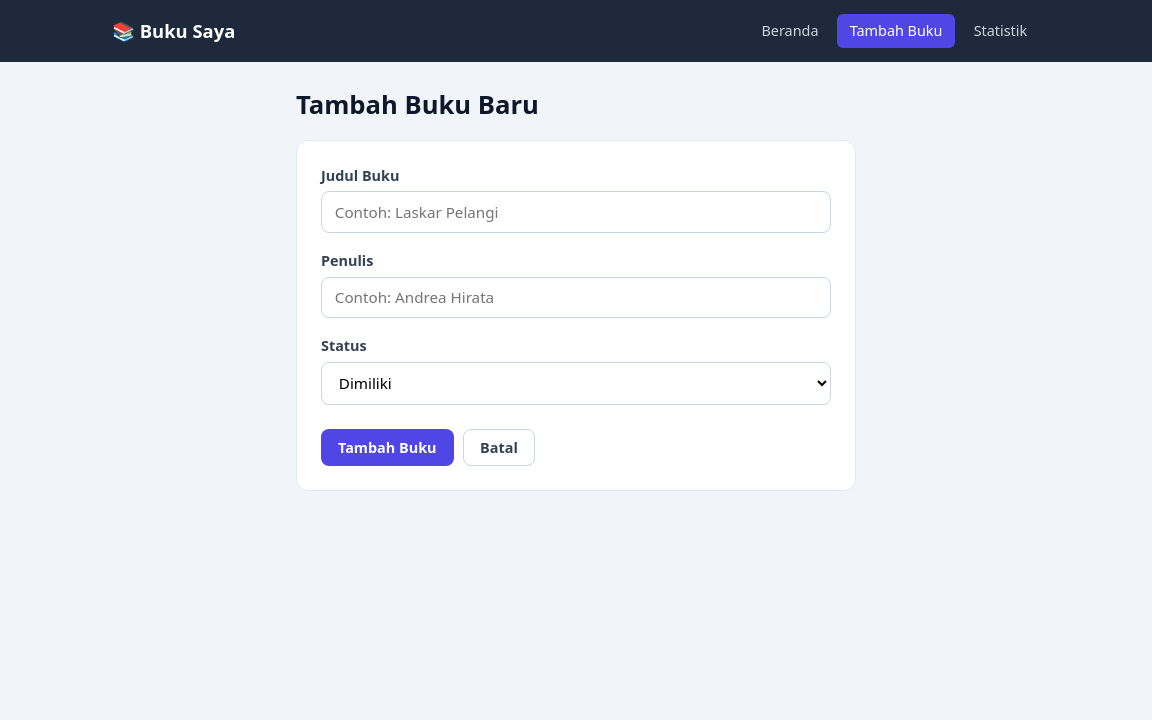
Aplikasi manajemen buku (integrasi) › menambah buku baru dan menyimpannya ke localStorage
The width and height of the screenshot is (1152, 720).
Type "Negeri 5 Menara" into the field labelled "Judul Buku" at point(576, 212), box [321,191,831,233]
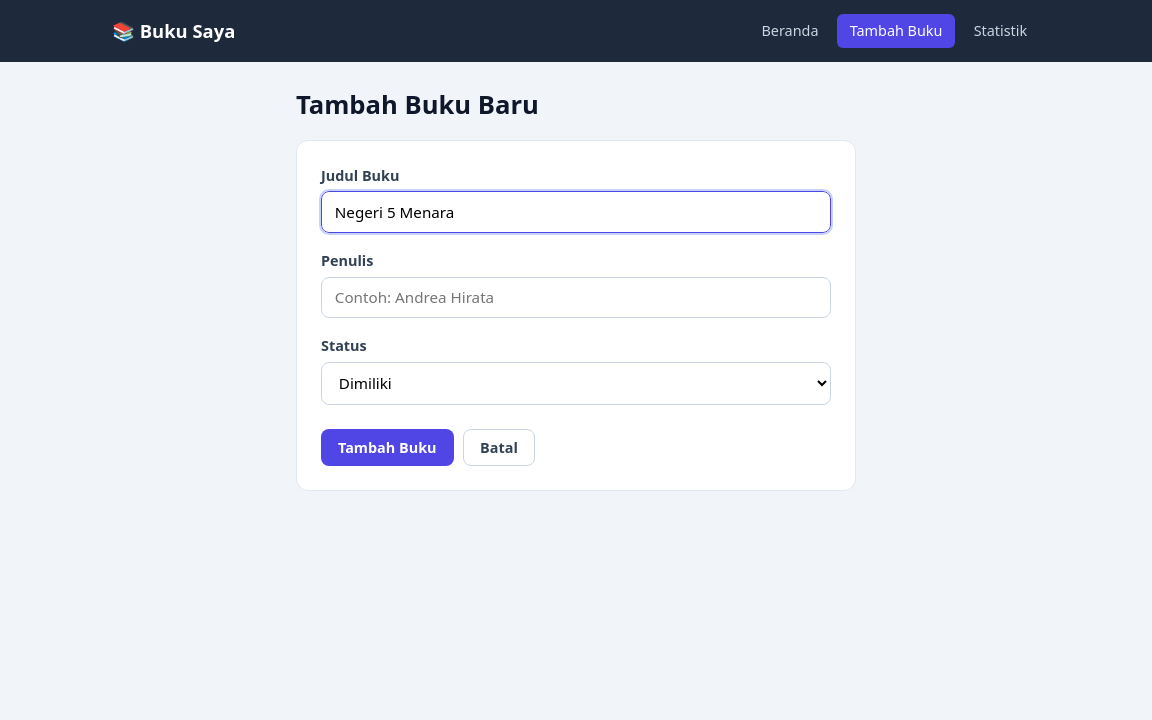
Type "A. Fuadi" into the field labelled "Penulis" at point(576, 297), box [321,277,831,318]
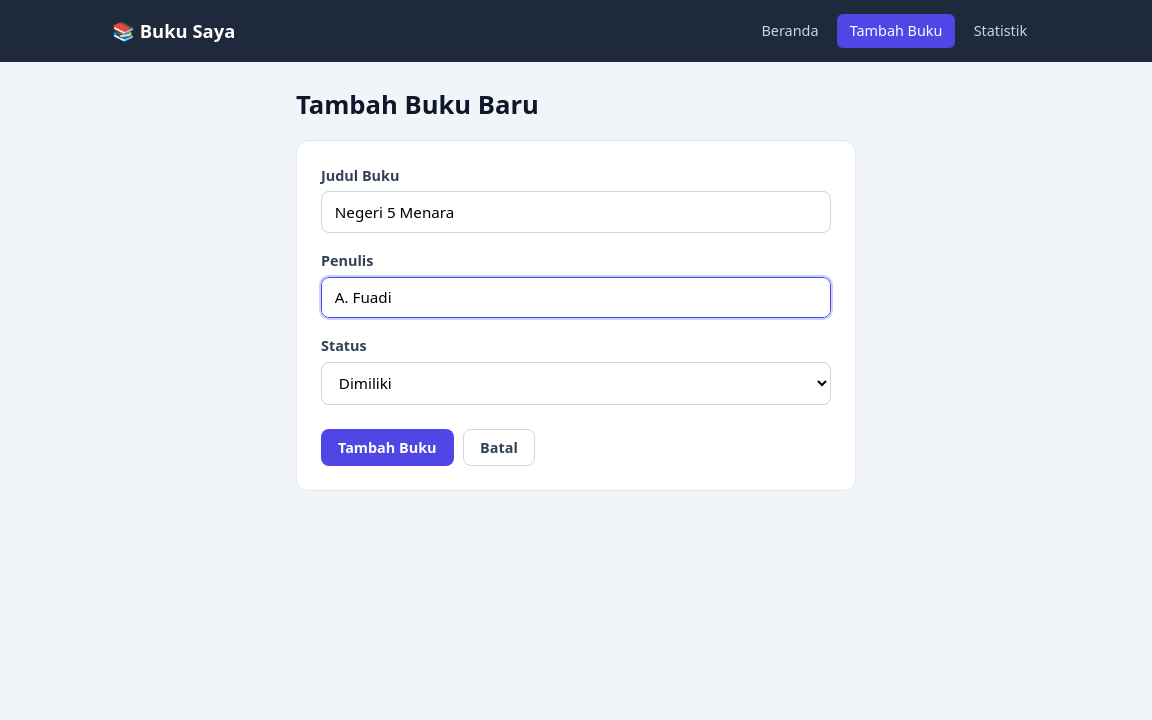
Click the button "Tambah Buku" at point(387, 447), box [321,429,454,466]
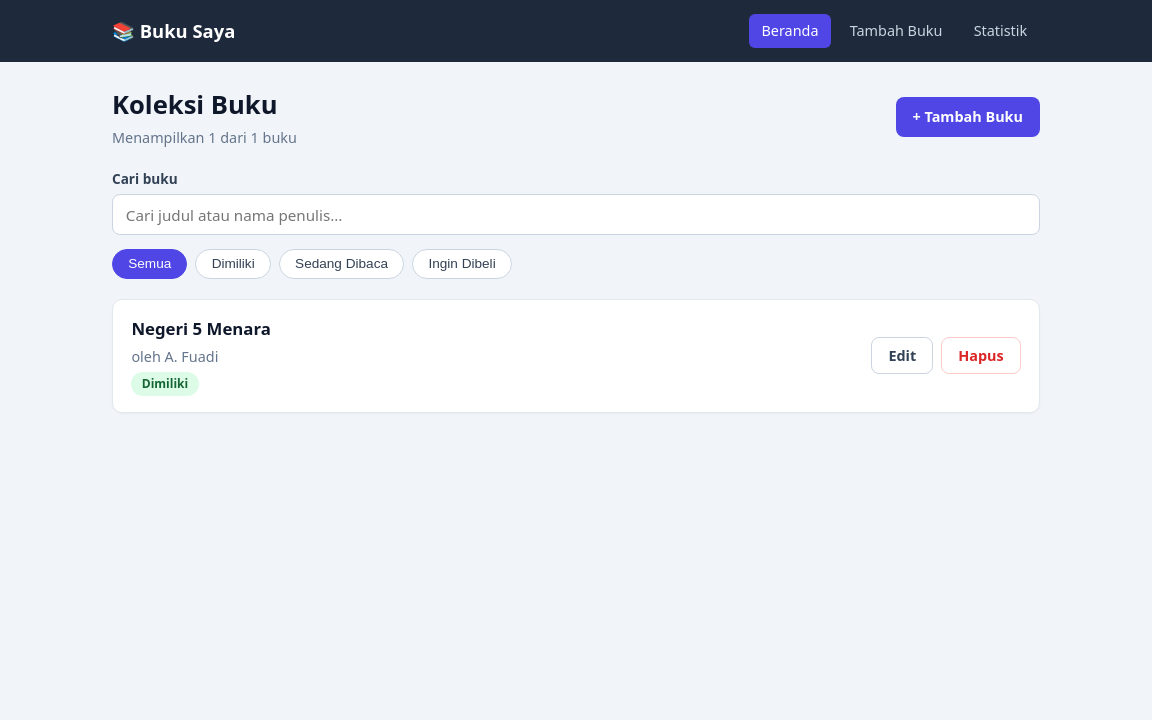
Check: the heading "Negeri 5 Menara" is shown, box [131,316,271,341]
